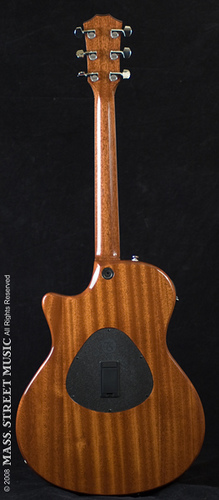guitar: (16, 16, 207, 498)
